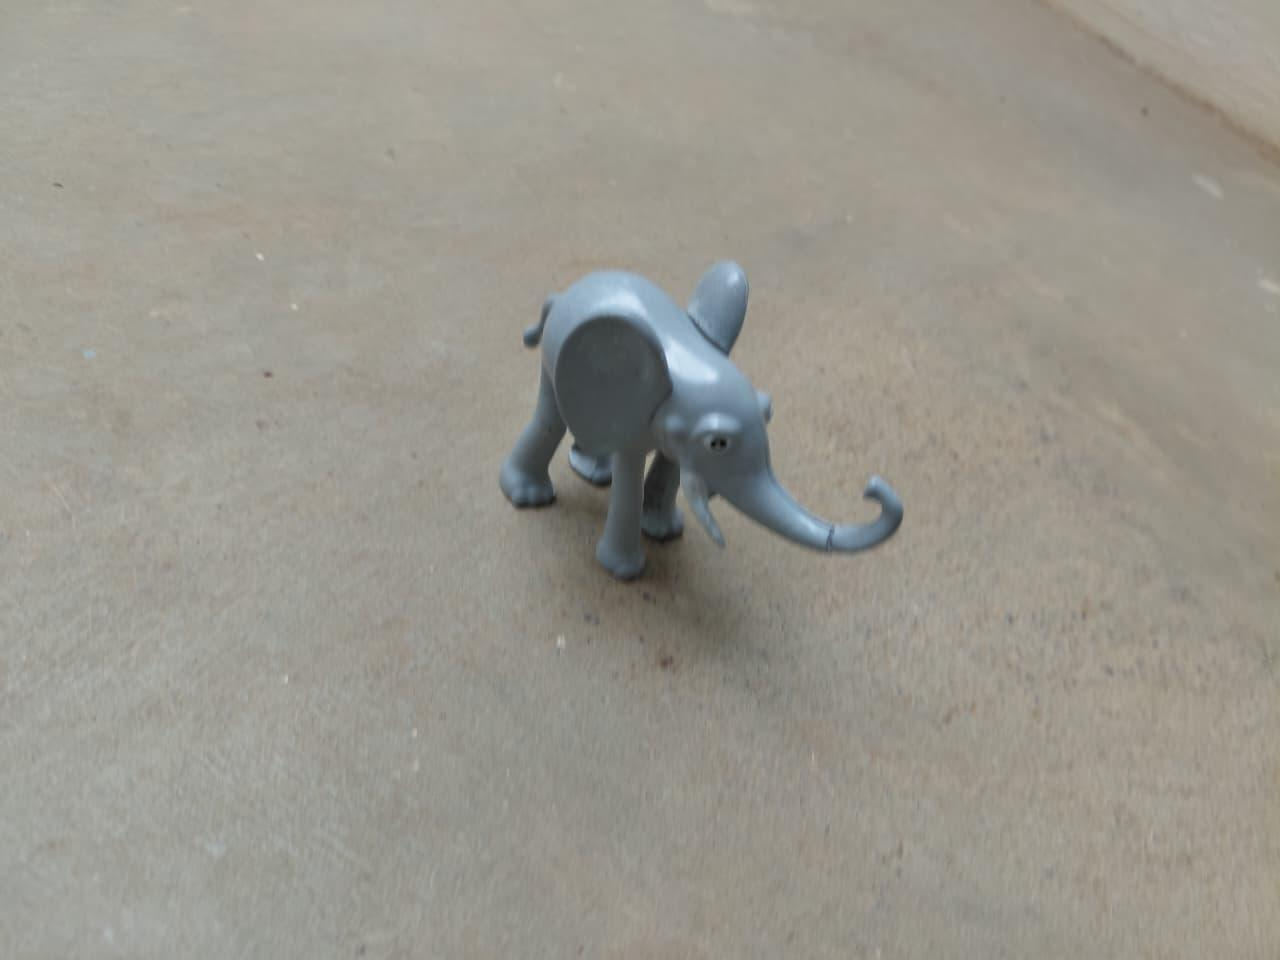elephant: (494, 234, 921, 599)
